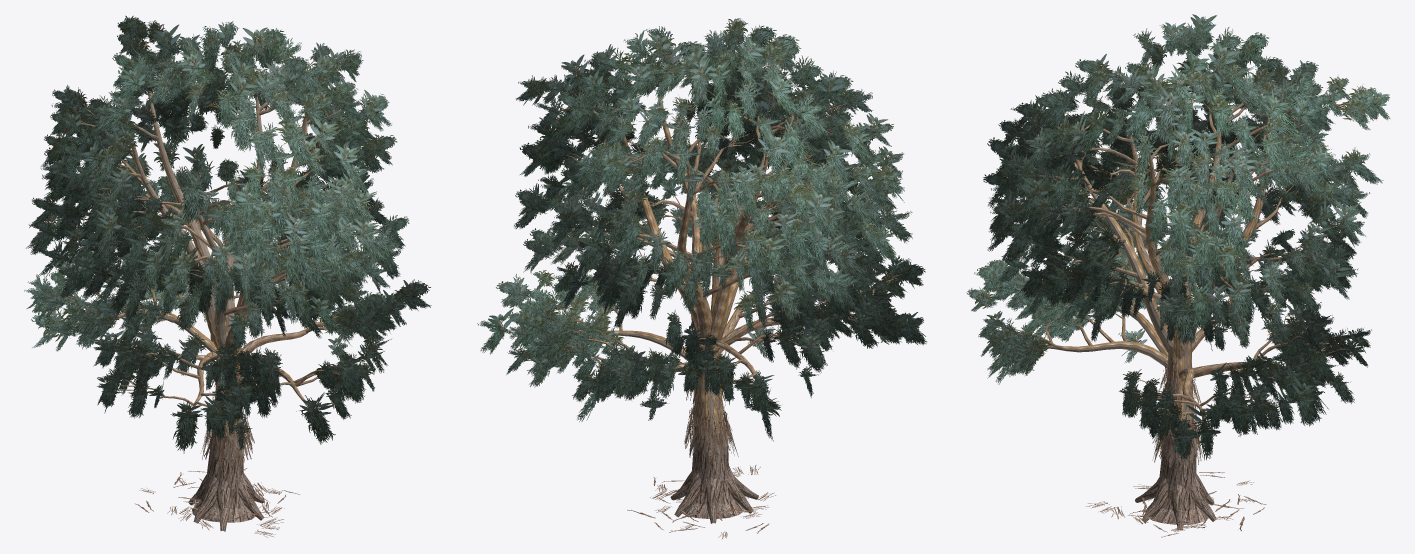
The model's file is eucalipto.glb.
3 renders of one model, left to right at view 1: azimuth 30°, elevation 25°; view 2: azimuth 150°, elevation 25°; view 3: azimuth 270°, elevation 25°, orthographic.
Visible parts, largest first — view 1: EU_Copa_Hojas, EU_Fuste_Ramas, EU_Tronco_Base; view 2: EU_Copa_Hojas, EU_Fuste_Ramas, EU_Tronco_Base; view 3: EU_Copa_Hojas, EU_Fuste_Ramas, EU_Tronco_Base.
Boxes of the visible parts, <box> form: EU_Copa_Hojas: <box>24,15,431,537</box>; EU_Fuste_Ramas: <box>47,36,397,439</box>; EU_Tronco_Base: <box>189,434,264,531</box>; EU_Copa_Hojas: <box>477,18,926,538</box>; EU_Fuste_Ramas: <box>530,79,901,434</box>; EU_Tronco_Base: <box>670,428,758,523</box>; EU_Copa_Hojas: <box>966,14,1390,537</box>; EU_Fuste_Ramas: <box>997,78,1348,441</box>; EU_Tronco_Base: <box>1135,438,1216,530</box>.
Bounding box in the file's own units: 2.56 × 3 × 2.5.
3 materials, 3 textured.
